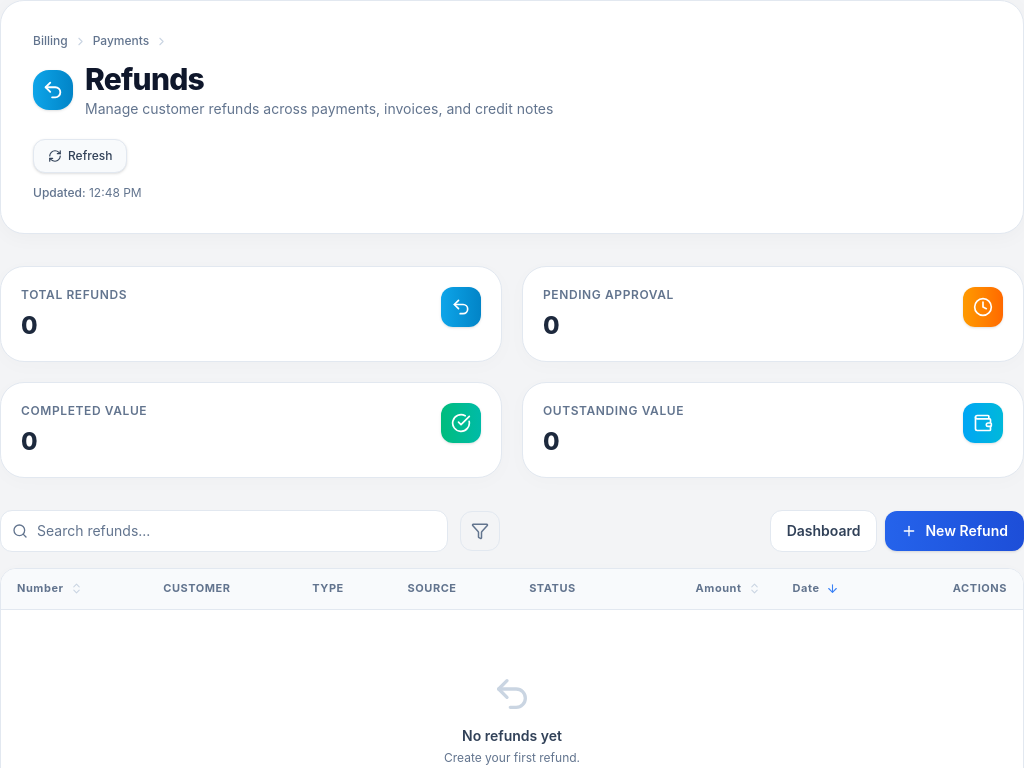
Test: B1 New Refund › amount only: says the customer is missing (the reported scenario) and creates nothing
Click the button "New Refund" at (955, 531), box 886,511 -> 1023,551
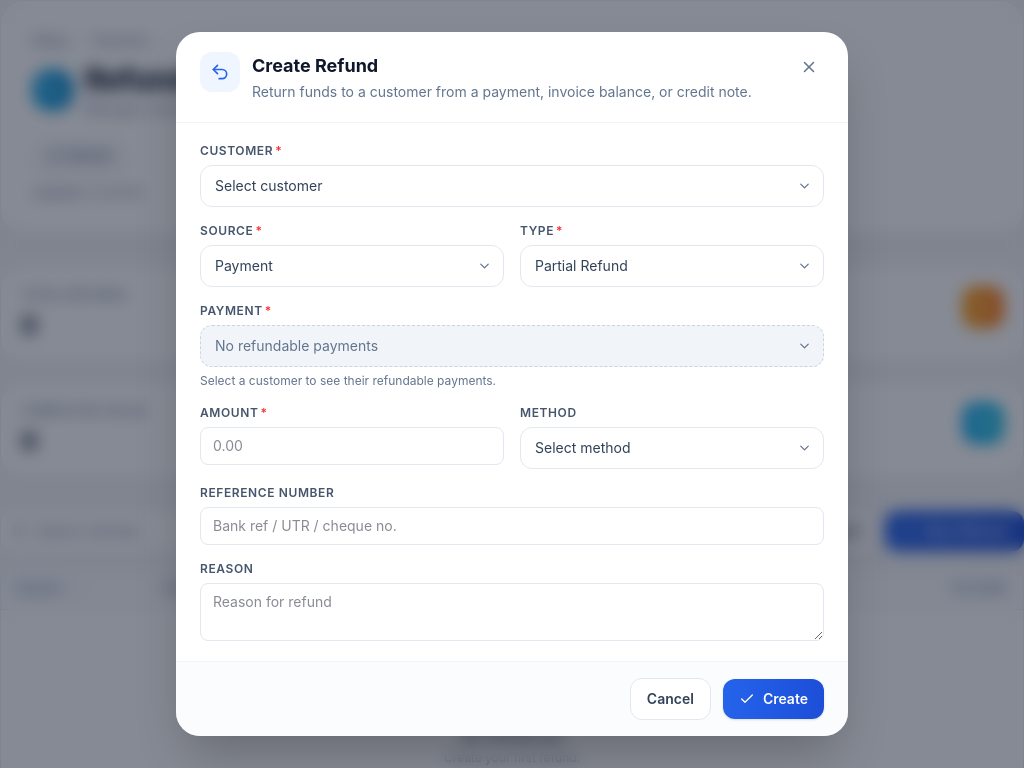
Type "10" into the number field labelled "Amount*" at (352, 446), box 200,427 -> 504,465
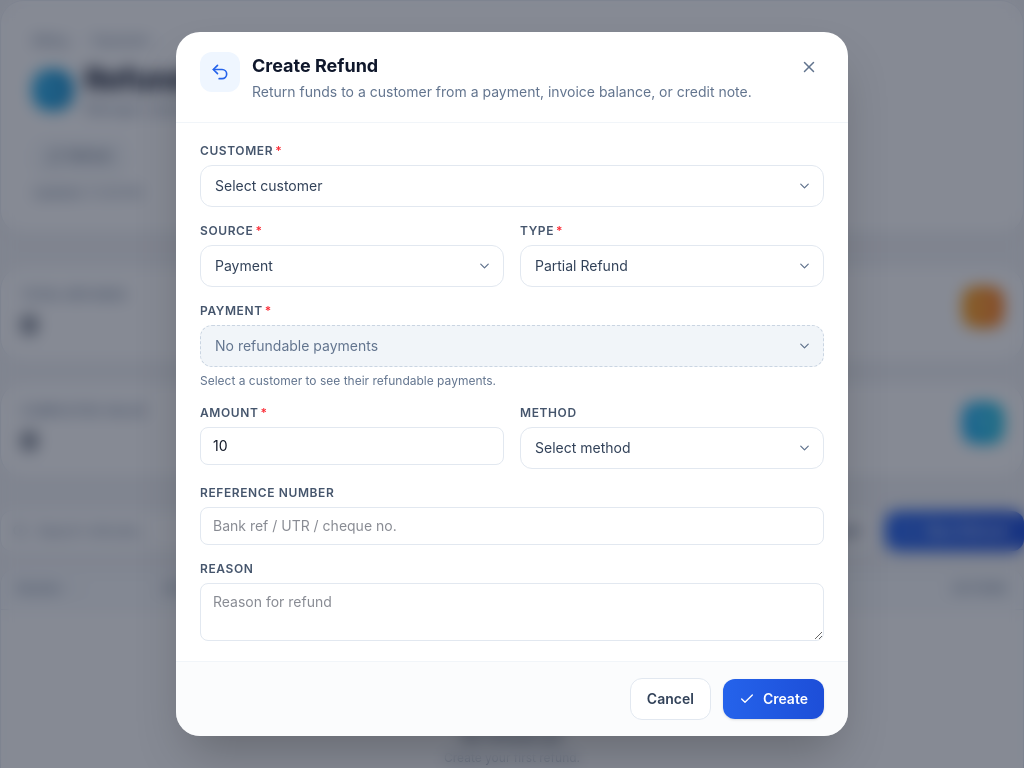
Click the button "Create" at (773, 699), box 723,679 -> 824,719
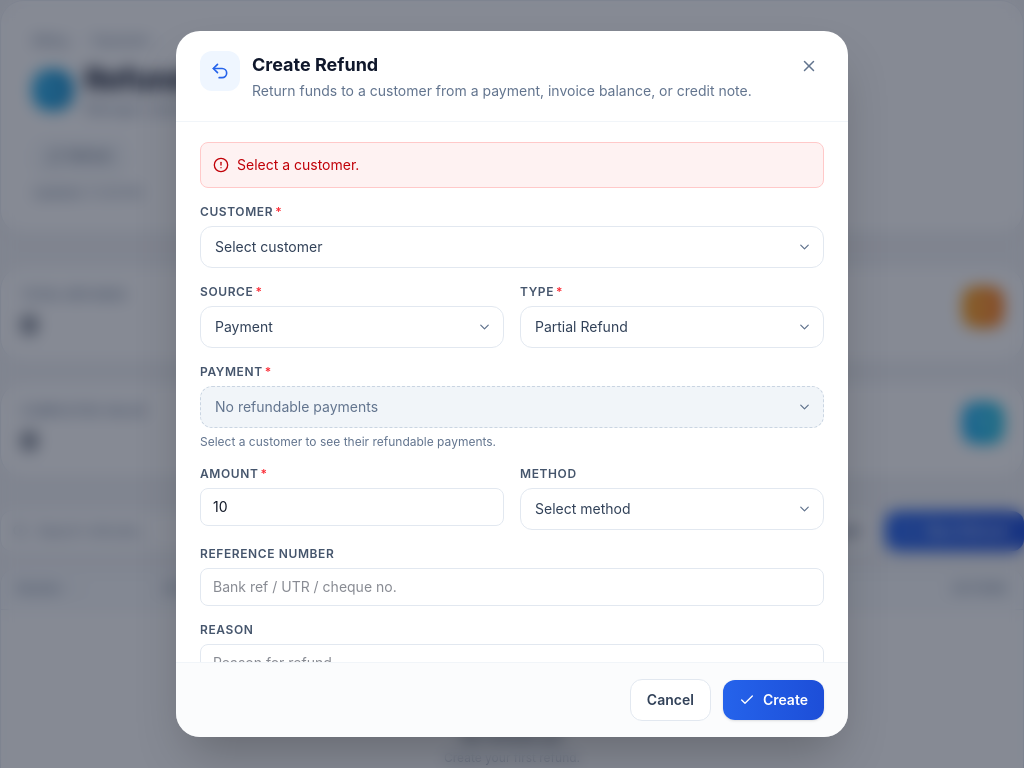
Expected: the text "Select a customer." is shown, 237,155 -> 359,175
